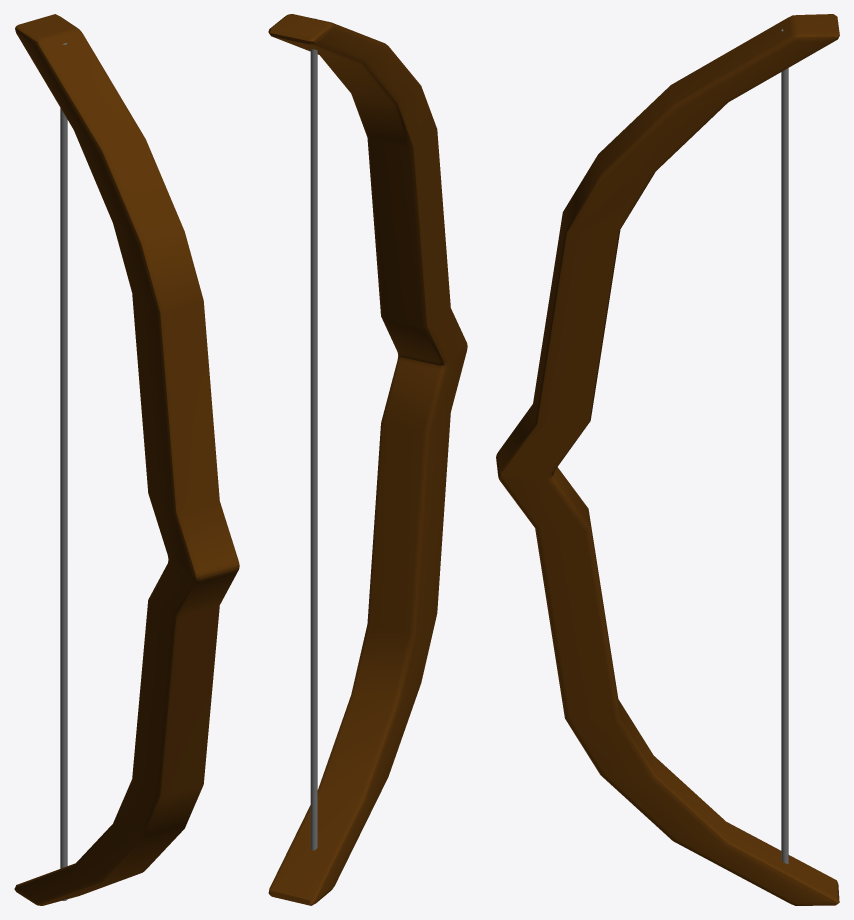
Rendered from ArcherGoblin_Bow.fbx.
3 renders of one model, left to right at view 1: azimuth 30°, elevation 25°; view 2: azimuth 150°, elevation 25°; view 3: azimuth 270°, elevation 25°, orthographic.
Parts seen in each view (by area): view 1: polySurface3; view 2: polySurface3; view 3: polySurface3.
Boxes of the visible parts, x1,y1,x2,y2 form: polySurface3: (14, 14, 239, 905); polySurface3: (268, 14, 467, 905); polySurface3: (496, 14, 839, 905).
Bounding box in the file's own units: 0.497 × 6.73 × 2.4.
